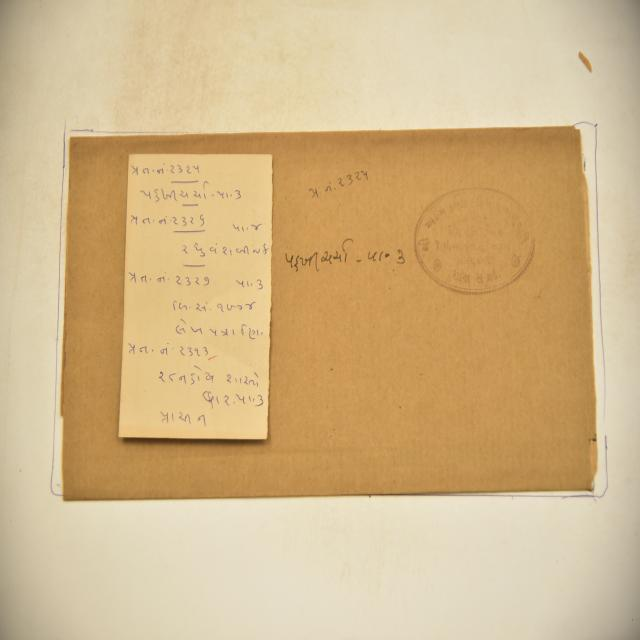text_paragraph: (64, 126, 593, 497)
